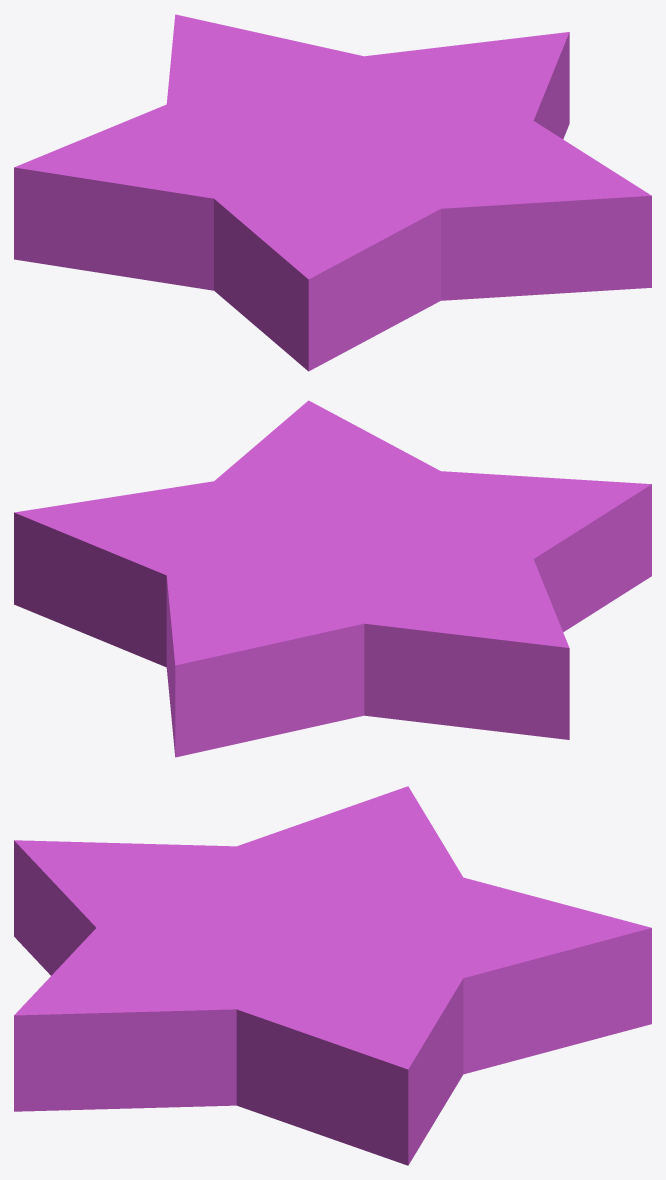
File: klk.fbx
The picture shows the model from 3 angles, top to bottom: view 1: azimuth 30°, elevation 25°; view 2: azimuth 150°, elevation 25°; view 3: azimuth 270°, elevation 25°; orthographic projection. The views are drawn at different scales.
Visible parts, largest first — view 1: Circle.001; view 2: Circle.001; view 3: Circle.001.
Part boxes in pixels (box(x1,y1,x2,y2)): Circle.001: box(14, 14, 651, 371); Circle.001: box(14, 400, 651, 757); Circle.001: box(14, 786, 651, 1165).
Bounding box in the file's own units: 190 × 30.11 × 181.
